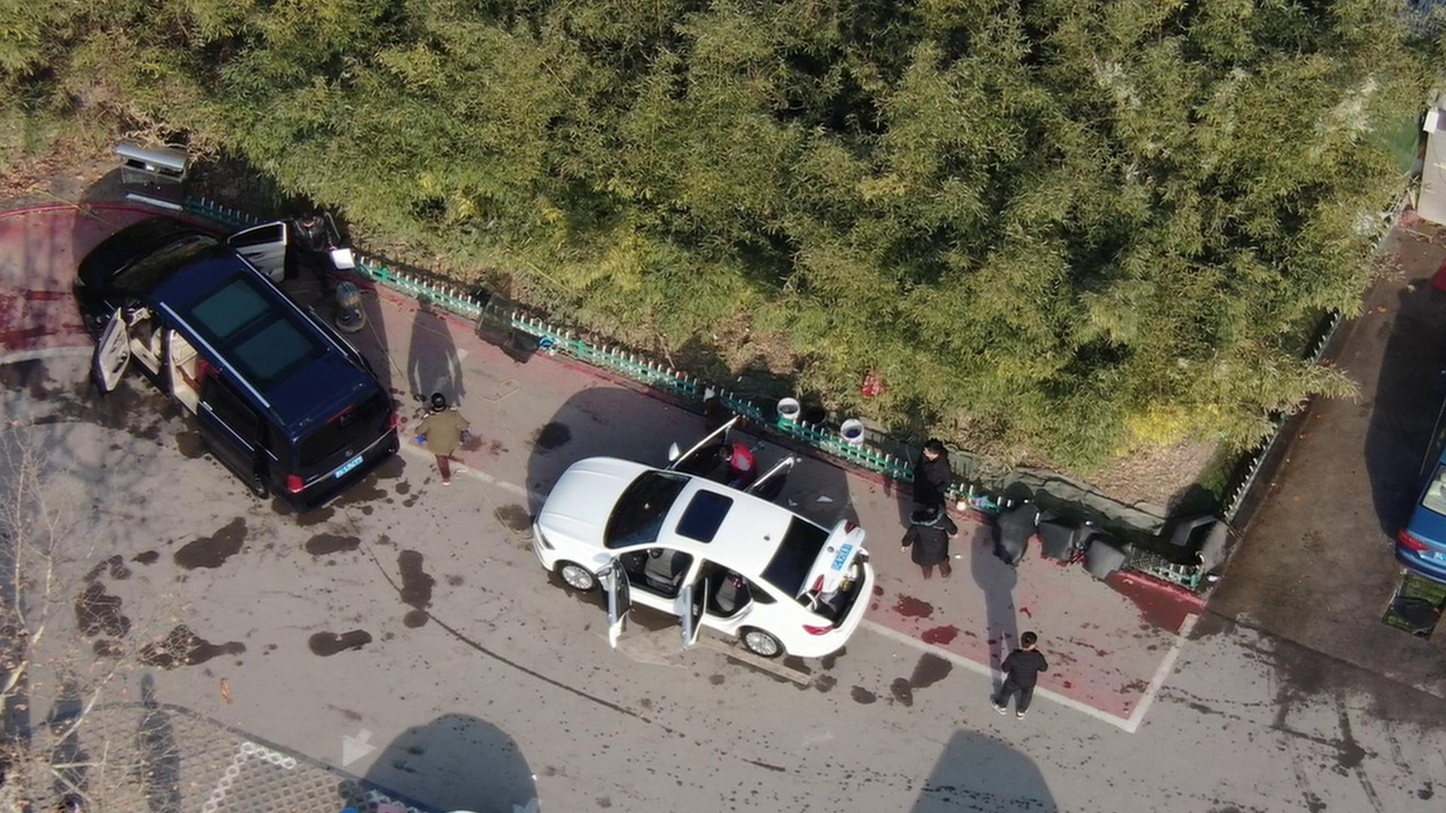human: (984, 619, 1051, 709), (893, 498, 961, 582), (412, 394, 472, 489), (913, 422, 950, 507), (304, 214, 339, 297), (716, 431, 763, 491)
